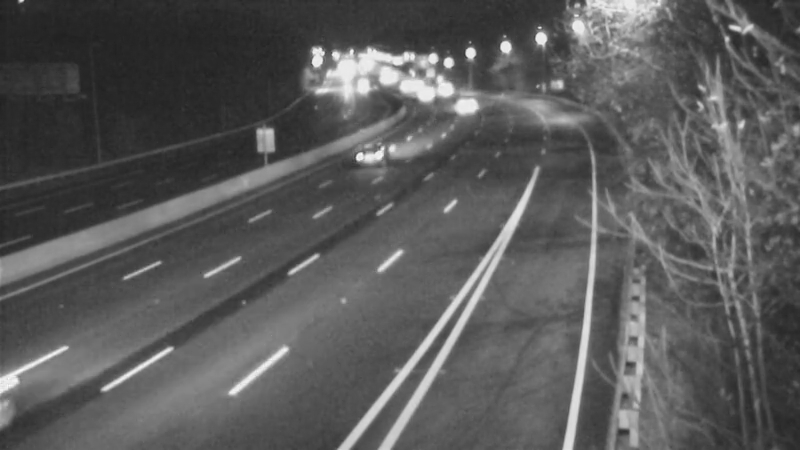vehicle: (331, 114, 411, 194), (419, 63, 469, 113), (392, 68, 442, 118), (441, 79, 491, 129)
